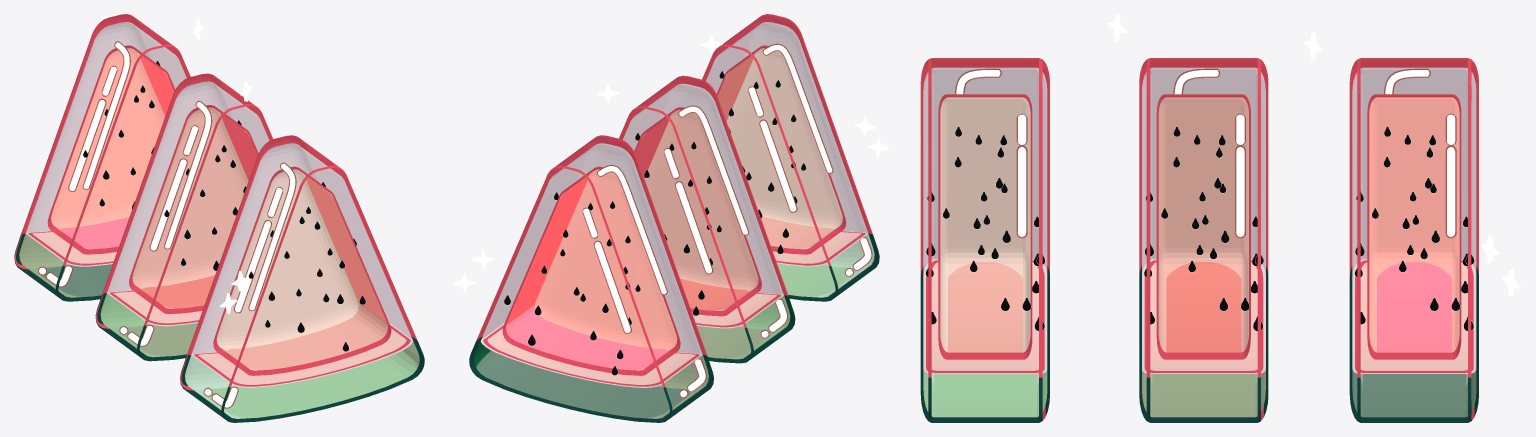
The model's file is watermelon-0.glb.
3 views of the same model, side by side, from view 1: azimuth 30°, elevation 25°; view 2: azimuth 150°, elevation 25°; view 3: azimuth 270°, elevation 25° (orthographic). The views are drawn at different scales.
Parts seen in each view (by area): view 1: Object_9, Object_8, Object_4, Object_7, Object_6, Object_12, Object_3, Object_2, Object_19, Object_5; view 2: Object_9, Object_7, Object_8, Object_4, Object_2, Object_12, Object_6, Object_3, Object_19, Object_5; view 3: Object_9, Object_7, Object_8, Object_4, Object_2, Object_6, Object_3, Object_19, Object_12, Object_5.
Boxes of the visible parts, x1,y1,x2,y2 form: Object_9: (14, 14, 424, 422); Object_8: (216, 169, 387, 370); Object_4: (132, 107, 257, 308); Object_7: (51, 48, 174, 249); Object_6: (185, 341, 419, 418); Object_12: (39, 42, 295, 407); Object_3: (100, 293, 197, 357); Object_2: (19, 234, 112, 297); Object_19: (83, 61, 365, 351); Object_5: (192, 19, 251, 313); Object_9: (469, 14, 879, 422); Object_7: (506, 169, 677, 370); Object_8: (717, 48, 842, 249); Object_4: (635, 110, 758, 310); Object_2: (474, 341, 708, 418); Object_12: (583, 44, 871, 396); Object_6: (777, 233, 874, 297); Object_3: (697, 295, 790, 359); Object_19: (504, 71, 805, 375); Object_5: (453, 34, 889, 293); Object_9: (920, 58, 1478, 422); Object_7: (1369, 97, 1459, 352); Object_8: (940, 97, 1030, 352); Object_4: (1158, 97, 1248, 352); Object_2: (1352, 369, 1476, 417); Object_6: (923, 369, 1047, 417); Object_3: (1142, 369, 1265, 417); Object_19: (925, 126, 1474, 331); Object_12: (956, 70, 1455, 236); Object_5: (918, 14, 1521, 296).
Size of the model in its own units: 2.04 by 2.59 by 3.94.
Materials: 10 (10 with a texture image).
